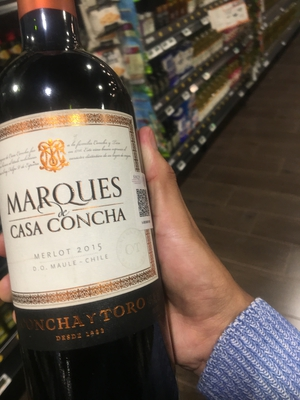marques de casa concha merlot: (3, 20, 195, 400)
